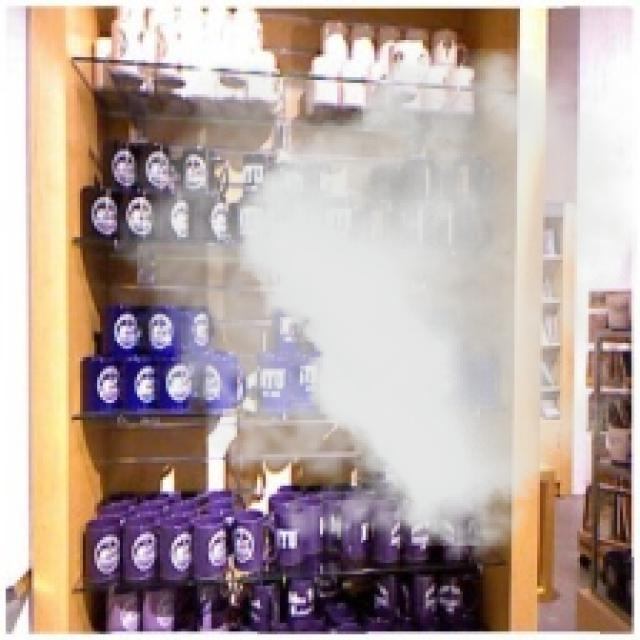smoke: (97, 49, 637, 577)
